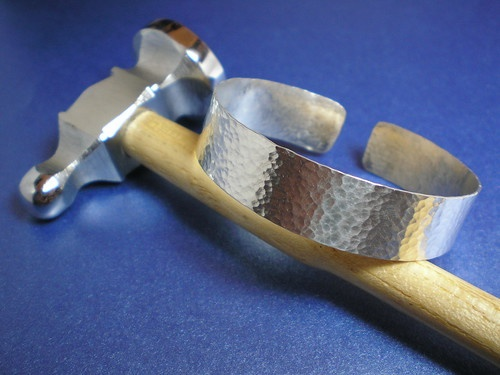hammer: (17, 15, 500, 365)
